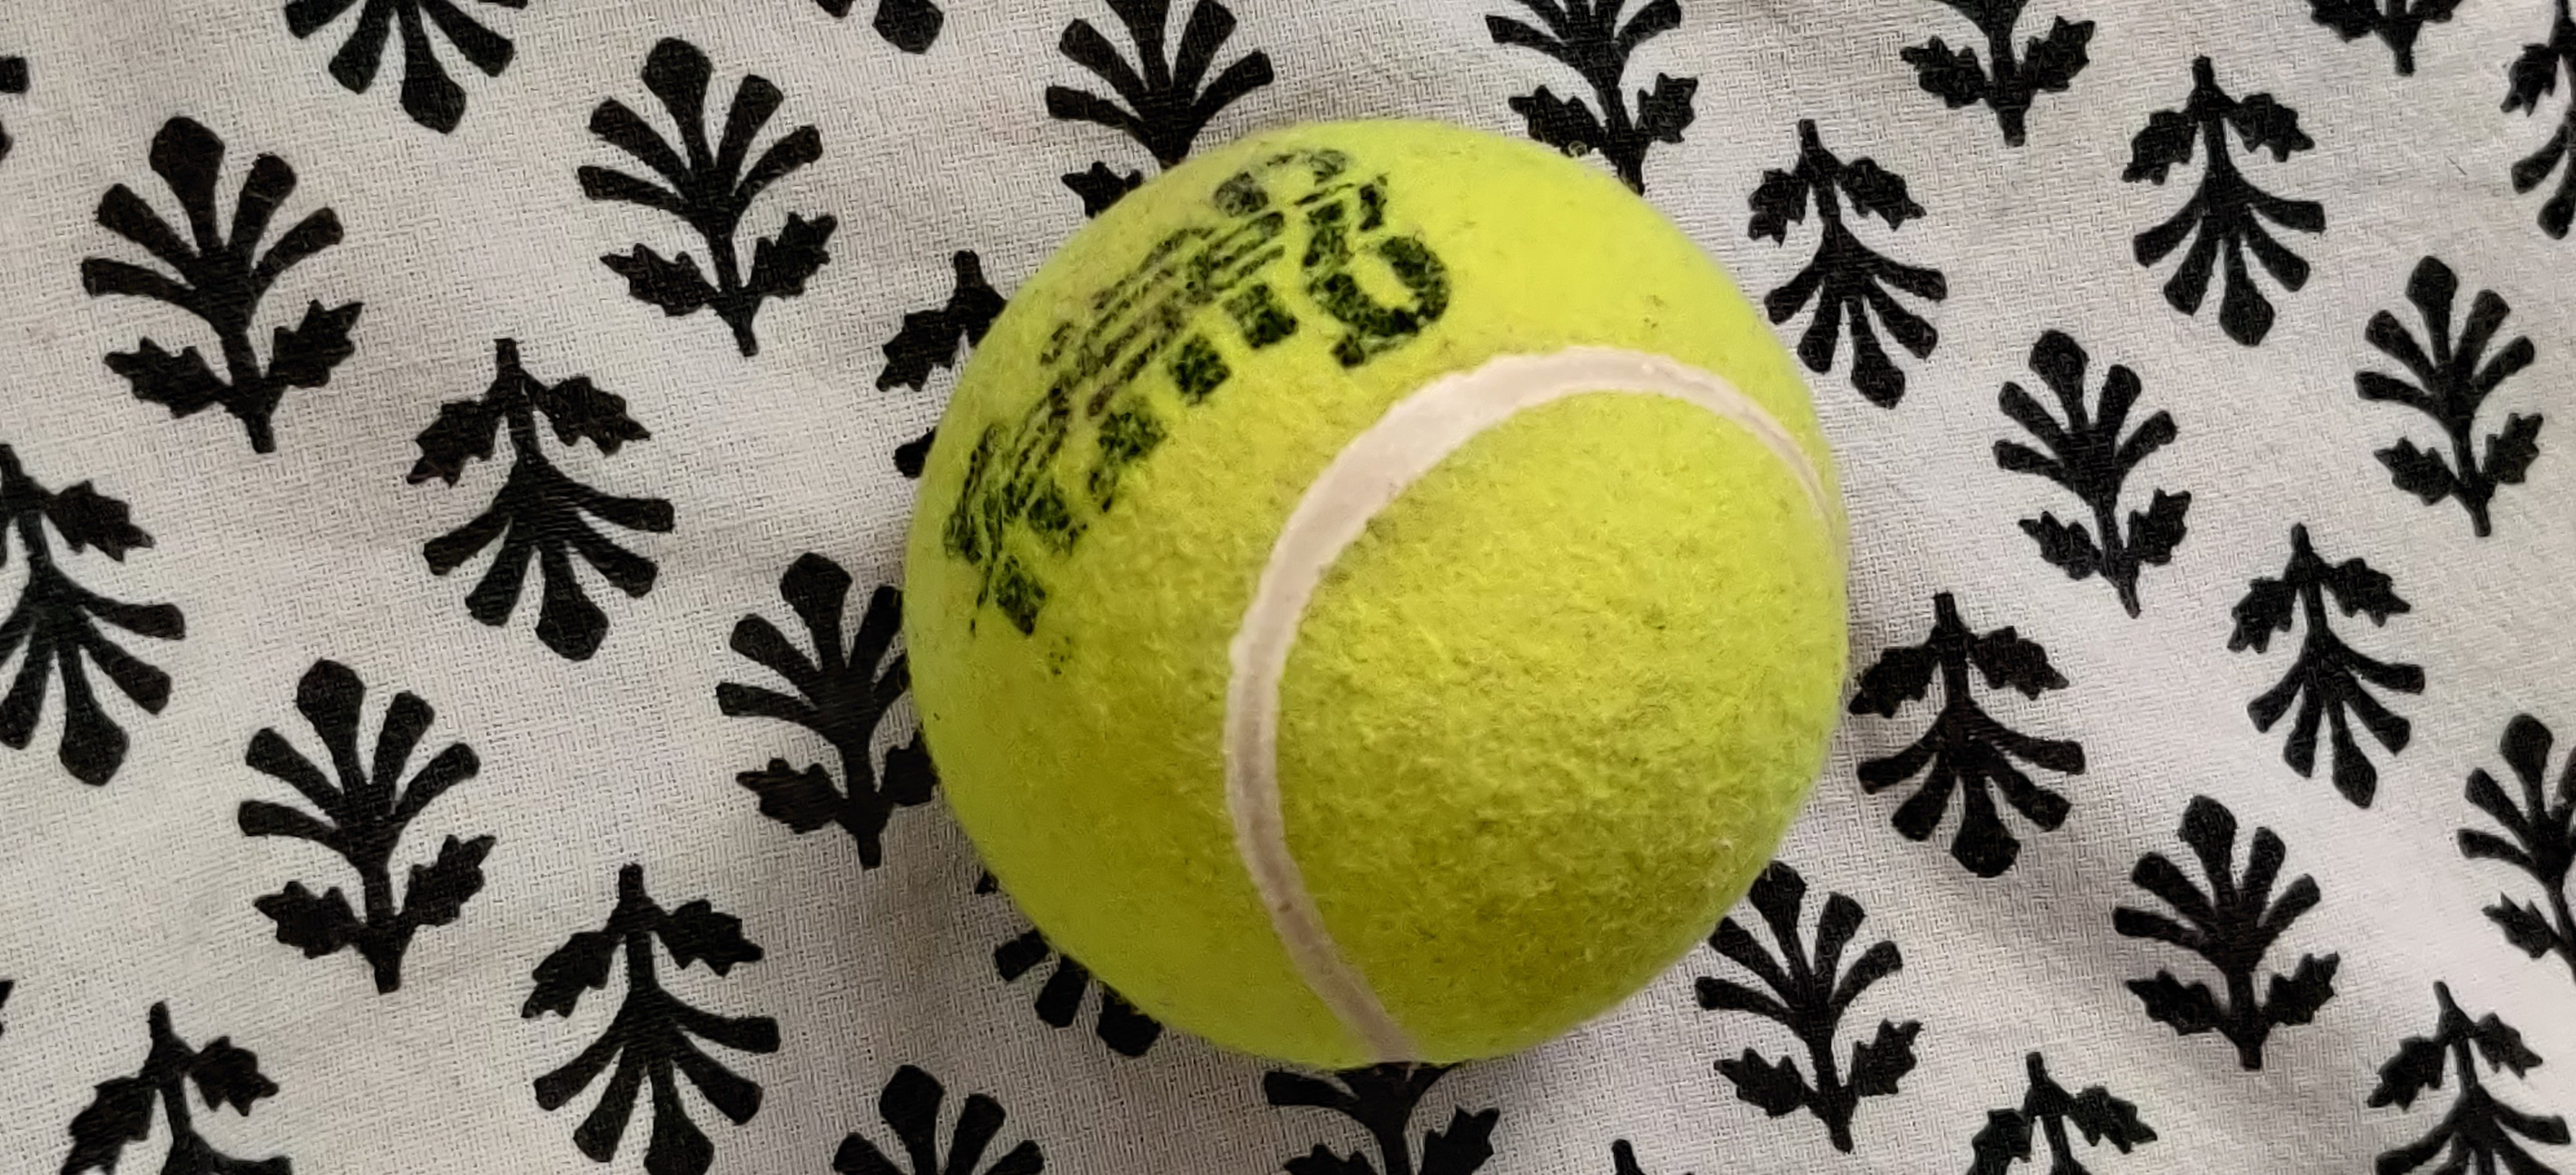Tennis-Ball: (902, 118, 1855, 1070)
